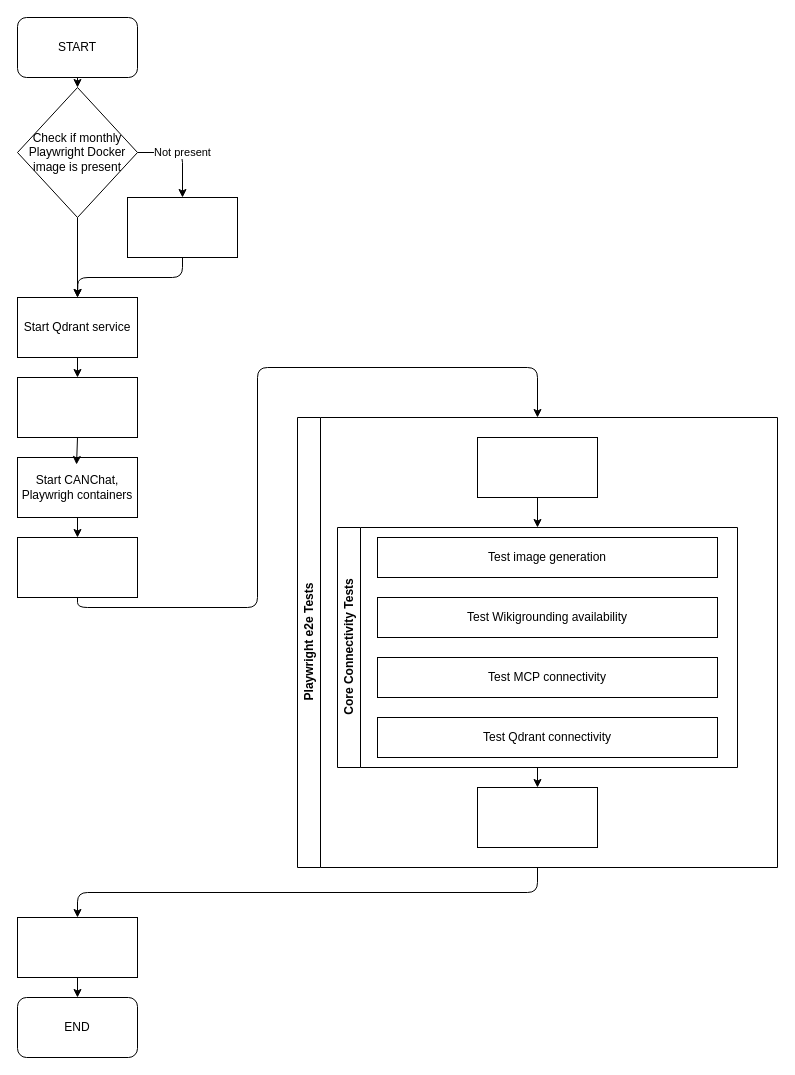
This 795x1075 diagram has some shape labels left out. Each missing label, with the centre of its shape:
"Build and push Playwright Docker image" belongs at point 182,227.
"Build user profiles" belongs at point 537,467.
"Refresh canchat-v2:dev image" belongs at point 77,407.
"Run release/PR tests" belongs at point 537,817.
"Upload Playwright report artifact to action" belongs at point 77,947.
"Wait for all containers to be available" belongs at point 77,567.
